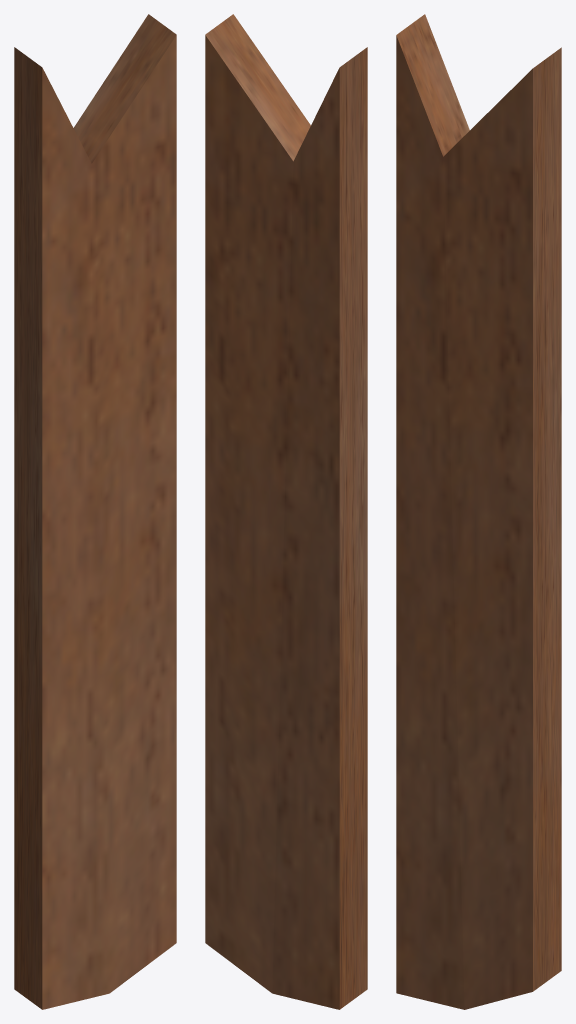
The model's file is Board_02.fbx.
The picture shows the model from 3 angles, left to right: view 1: azimuth 30°, elevation 25°; view 2: azimuth 150°, elevation 25°; view 3: azimuth 330°, elevation 25°; orthographic projection.
Visible parts, largest first — view 1: Board_02; view 2: Board_02; view 3: Board_02.
Boxes of the visible parts, x1,y1,x2,y2 form: Board_02: [14, 14, 176, 1009]; Board_02: [205, 14, 367, 1009]; Board_02: [396, 14, 561, 1009].
Size of the model in its own units: 53.91 by 361 by 20.77.
